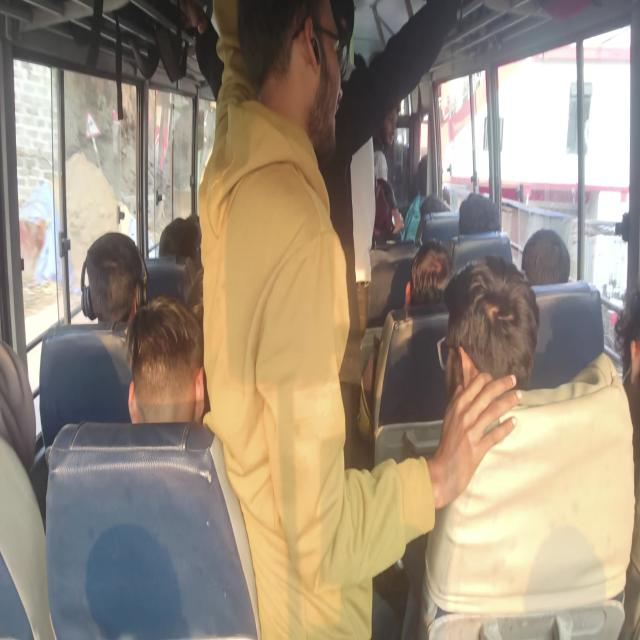person: (230, 25, 322, 145), (76, 202, 150, 327), (134, 308, 198, 408), (0, 343, 36, 501), (324, 30, 363, 160), (184, 255, 237, 327), (610, 281, 640, 395), (463, 270, 506, 348), (369, 49, 401, 153), (146, 206, 201, 255), (392, 237, 444, 285), (520, 218, 559, 277), (420, 179, 455, 244), (464, 188, 482, 218)
